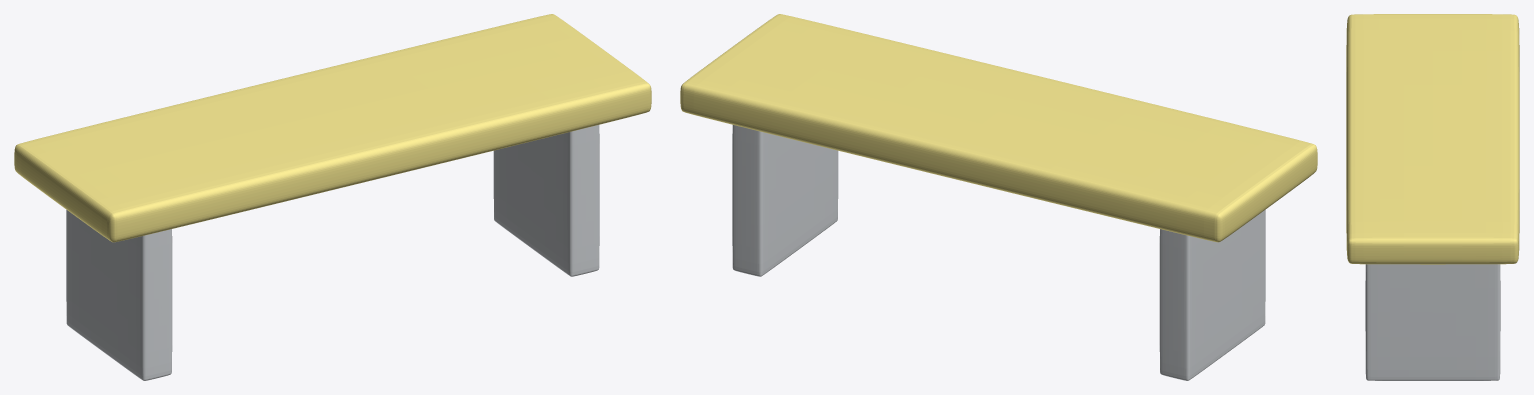
File: Toy_Bench_Hi.fbx
The picture shows the model from 3 angles, left to right: view 1: azimuth 30°, elevation 25°; view 2: azimuth 150°, elevation 25°; view 3: azimuth 270°, elevation 25°; orthographic projection. The views are drawn at different scales.
Visible parts, largest first — view 1: Cube, Cube.001, Cube.002; view 2: Cube, Cube.001, Cube.002; view 3: Cube, Cube.002.
Part boxes in pixels (box(x1,y1,x2,y2)): Cube: box(14, 14, 651, 242); Cube.001: box(66, 210, 172, 380); Cube.002: box(493, 125, 599, 276); Cube: box(680, 14, 1317, 242); Cube.001: box(1159, 210, 1265, 380); Cube.002: box(732, 125, 838, 276); Cube: box(1346, 14, 1519, 264); Cube.002: box(1365, 264, 1500, 380).
Bounding box in the file's own units: 1.4 × 0.4597 × 0.4496.
